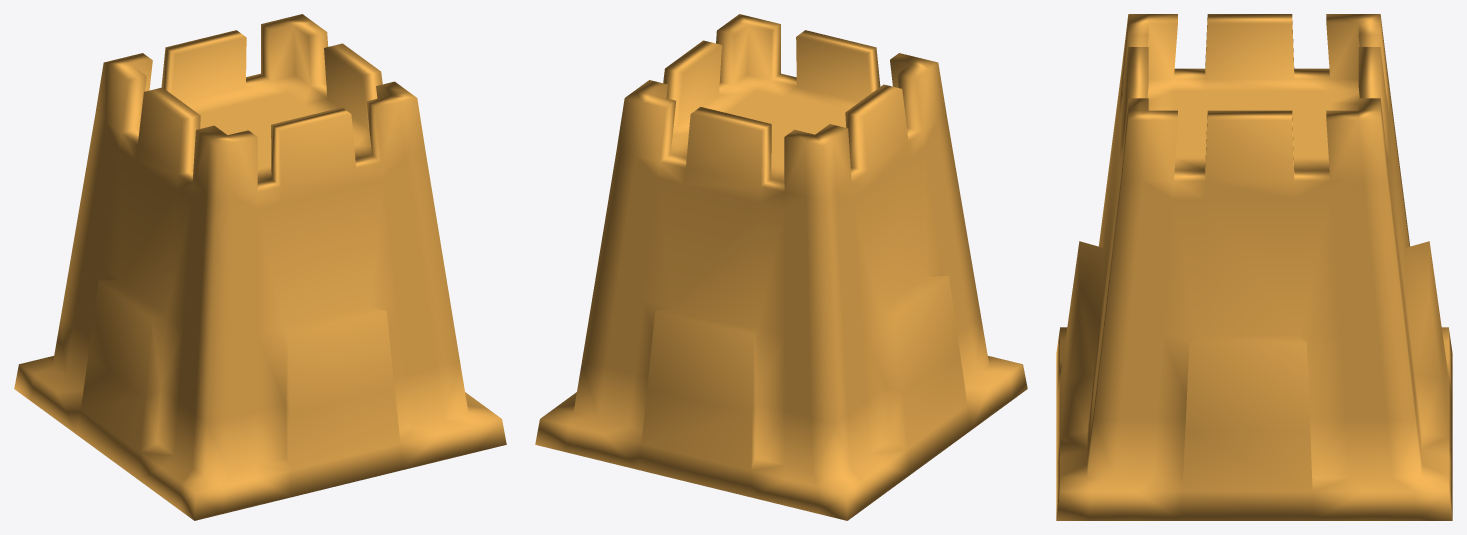
File: Sandcastle.fbx
The picture shows the model from 3 angles, left to right: view 1: azimuth 30°, elevation 25°; view 2: azimuth 150°, elevation 25°; view 3: azimuth 270°, elevation 25°; orthographic projection. The views are drawn at different scales.
Visible parts, largest first — view 1: Sandcastle; view 2: Sandcastle; view 3: Sandcastle.
Part boxes in pixels (x1,y1,x2,y2): Sandcastle: (14,14,506,520); Sandcastle: (535,14,1027,520); Sandcastle: (1056,14,1452,520).
Size of the model in its own units: 1.85 by 1.91 by 1.85.
